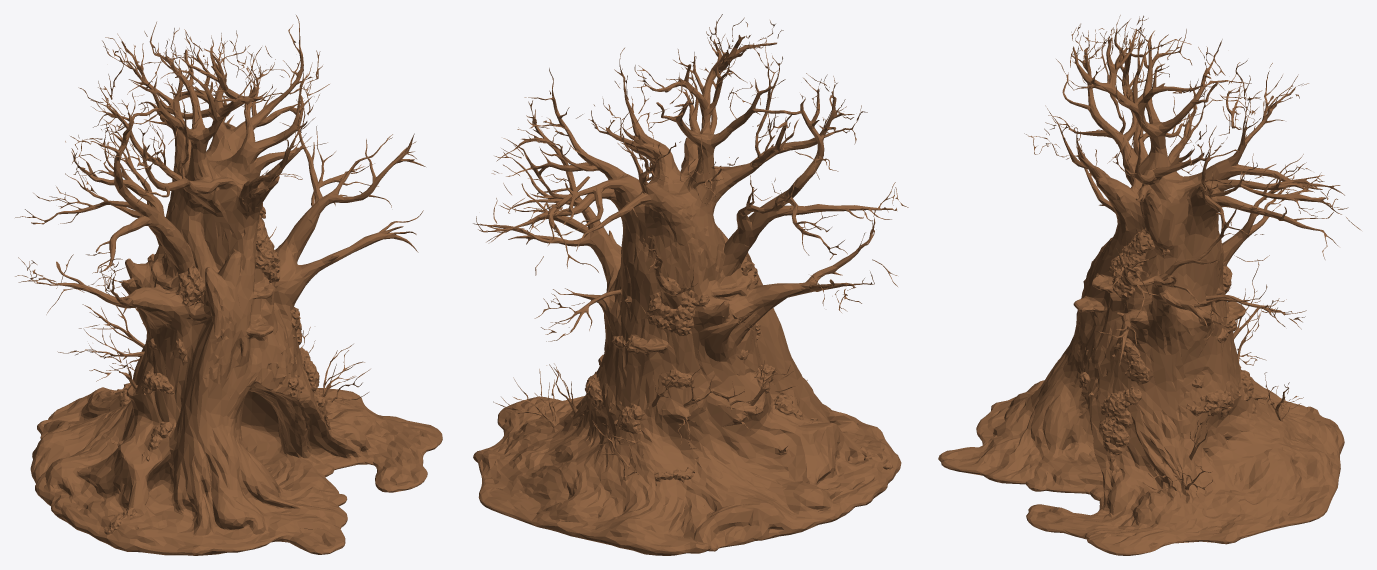
Rendered from MotherTree.fbx.
The picture shows the model from 3 angles, left to right: view 1: azimuth 30°, elevation 25°; view 2: azimuth 150°, elevation 25°; view 3: azimuth 270°, elevation 25°; orthographic projection. The views are drawn at different scales.
Parts seen in each view (by area): view 1: Mesh_0; view 2: Mesh_0; view 3: Mesh_0.
Part boxes in pixels (<box>): Mesh_0: <box>15,15,442,555</box>; Mesh_0: <box>473,14,908,555</box>; Mesh_0: <box>938,15,1361,555</box>.
Size of the model in its own units: 9.26 by 9.99 by 8.98.
